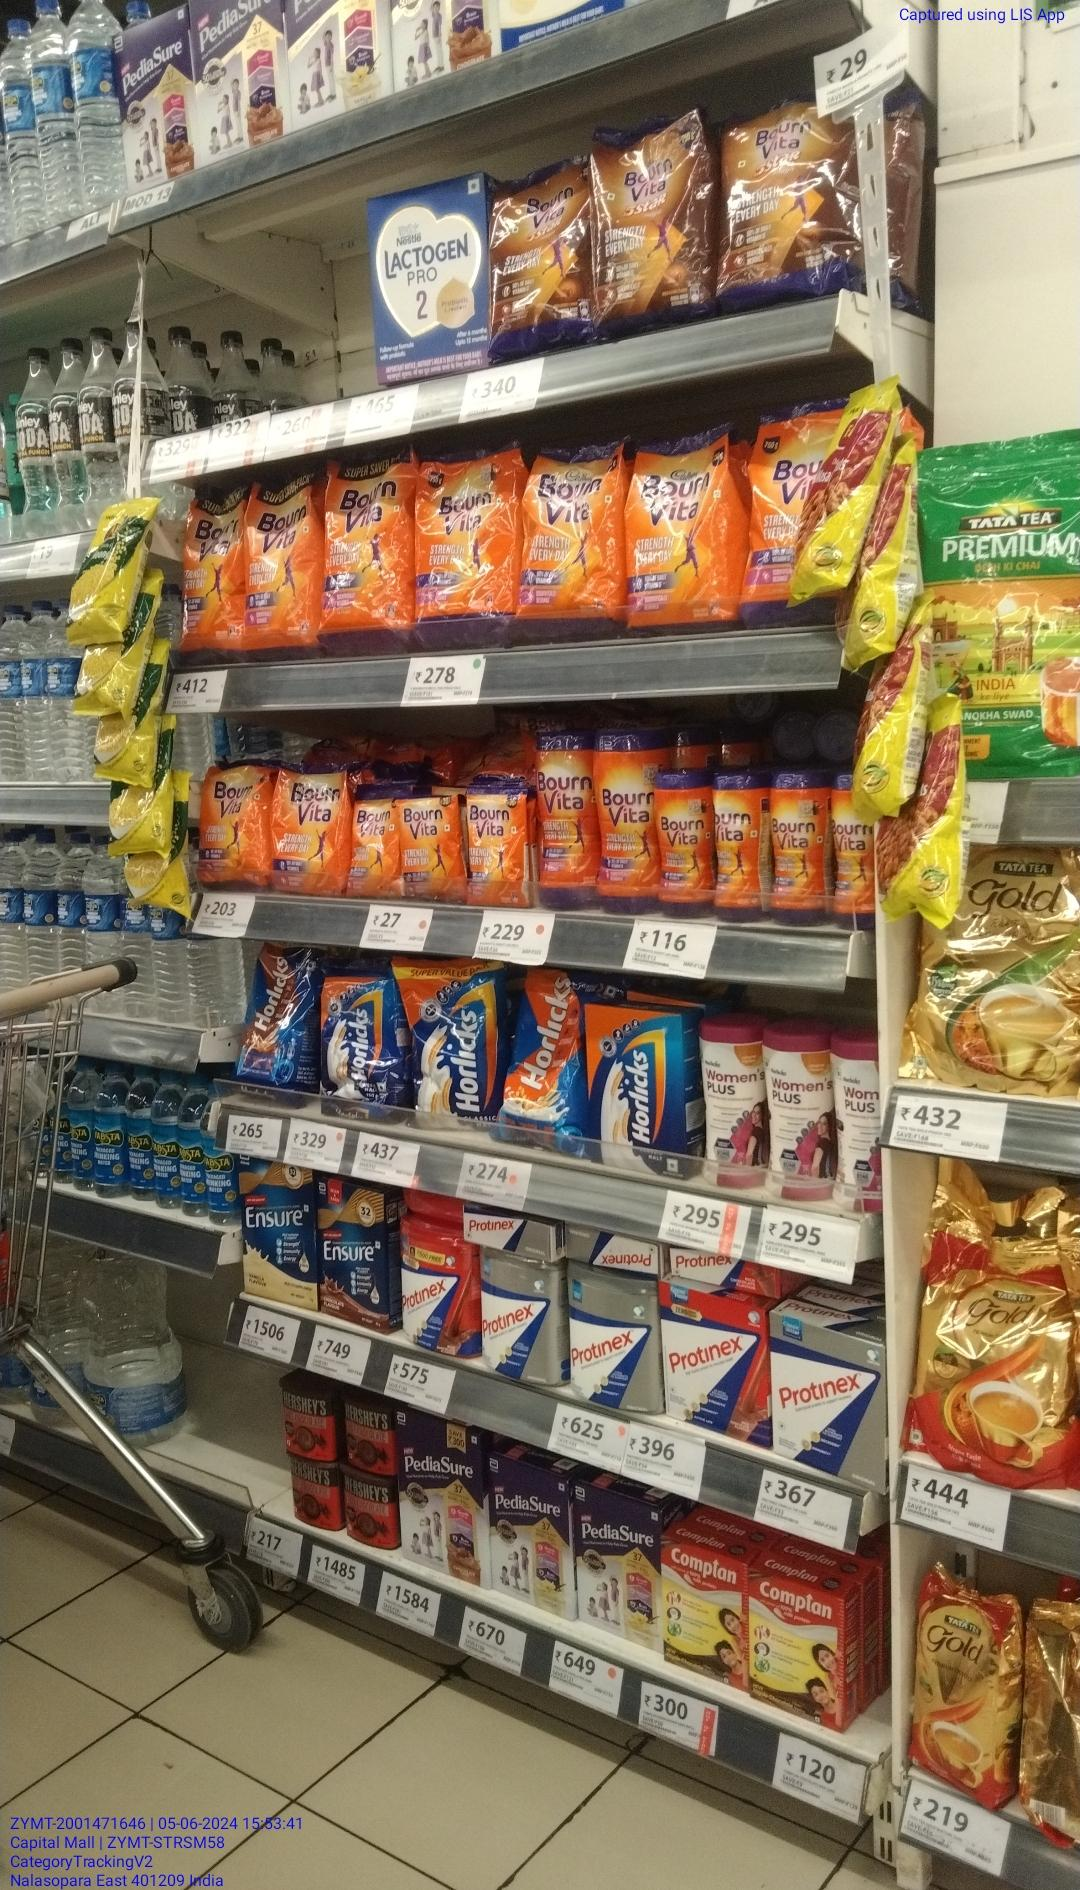BOURN_VITA_200_G_JAR: (766, 770, 819, 926), (658, 771, 711, 920), (831, 772, 875, 932), (714, 771, 761, 922)
BOURN_VITA_75_G_POUCH: (400, 796, 461, 905), (467, 785, 518, 911), (350, 789, 399, 901)
PEDIASURE_VANILLA_500_G_PACK: (485, 1455, 576, 1608), (578, 1480, 657, 1642)
PROTINEX_CHOCOLATE_400_G_JAR: (399, 1219, 475, 1354)
PROTINEX_ORIGINAL_400_G_JAR: (567, 1266, 659, 1414), (480, 1254, 558, 1388)
